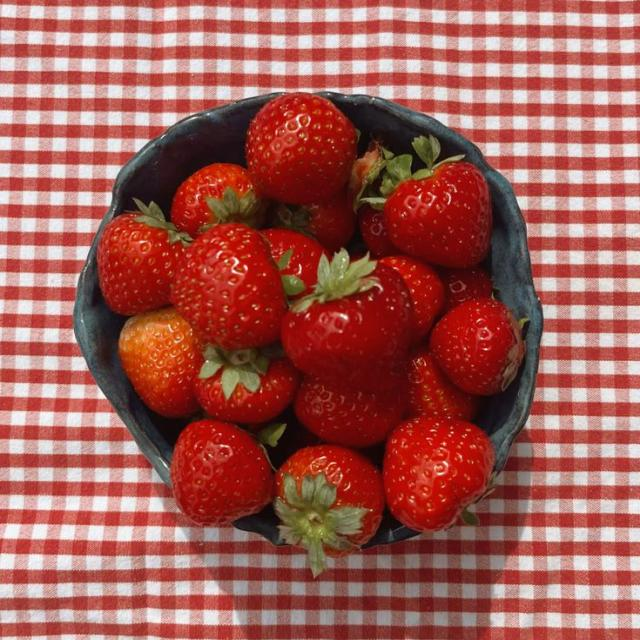strawberry: (282, 250, 412, 391), (378, 137, 492, 268), (171, 223, 286, 350), (274, 444, 384, 576), (383, 417, 494, 531), (246, 93, 357, 204), (170, 419, 273, 525), (97, 200, 190, 315), (118, 307, 202, 417), (430, 299, 524, 395), (195, 345, 299, 423), (294, 377, 407, 448), (170, 163, 265, 237), (378, 253, 444, 344), (407, 345, 480, 421), (274, 191, 356, 253), (262, 229, 330, 299), (348, 140, 388, 209), (439, 266, 492, 312), (358, 205, 398, 257)
